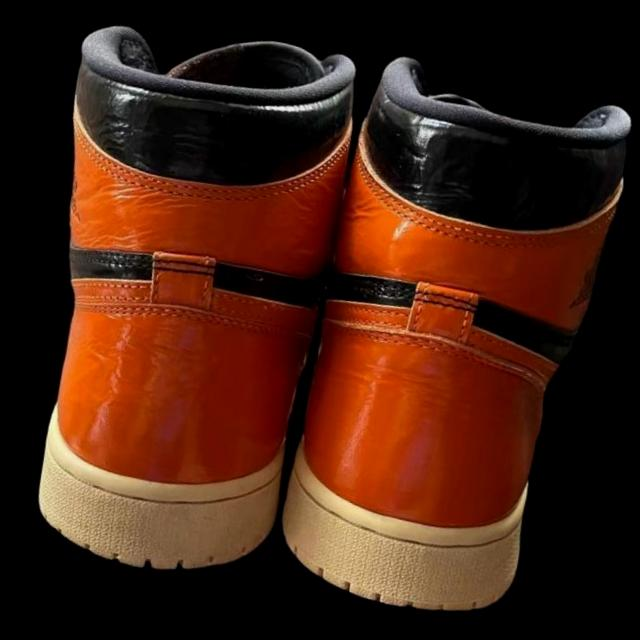nike_original_jordan: (264, 42, 638, 633), (0, 2, 364, 597)
